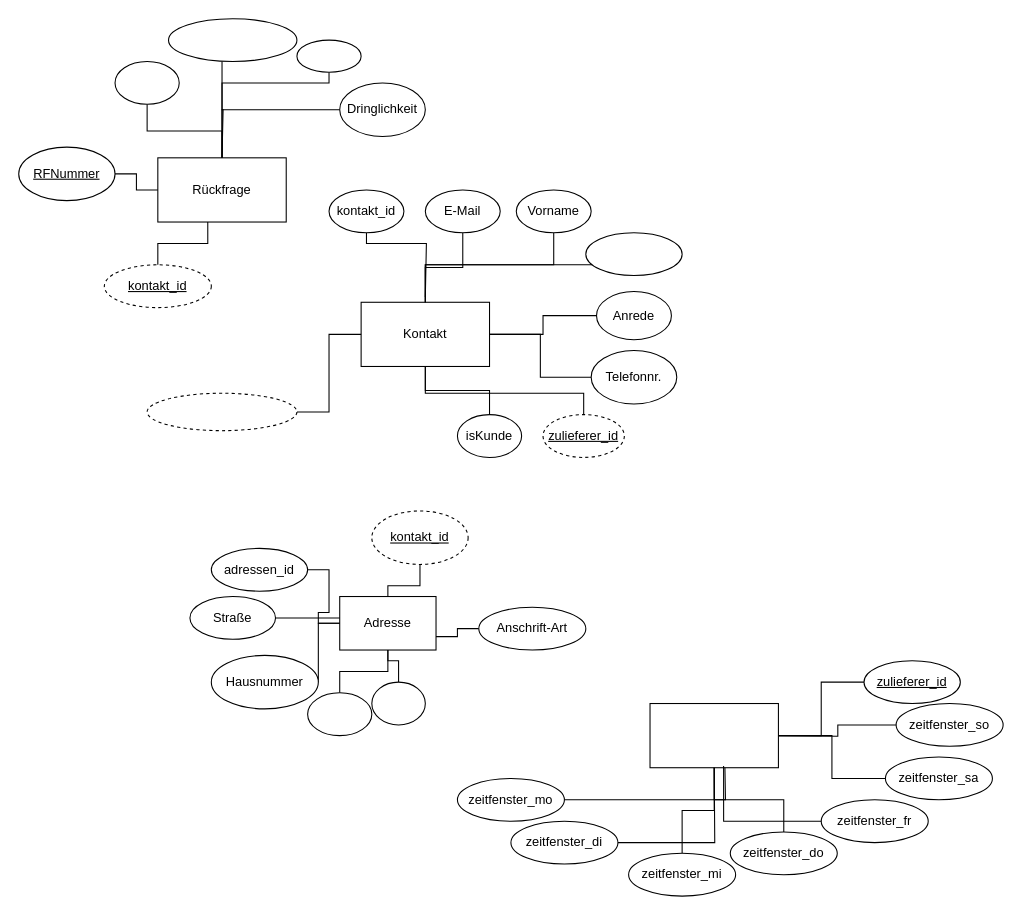
This 1022x915 diagram has some shape labels left out. Each missing label, with the centre of its shape:
"Erfassungszeitpunkt" goes at (x=232, y=40).
"Nachname" goes at (x=633, y=254).
"Ort" goes at (x=398, y=703).
"PLZ" goes at (x=339, y=714).
"Reschnungsadresse" goes at (x=221, y=411).
"Text" goes at (x=146, y=82).
"Thema" goes at (x=328, y=55).
"Zulieferer" goes at (x=713, y=735).
